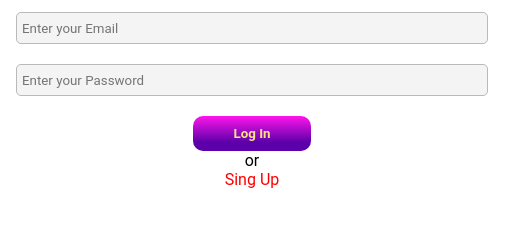
Test case: <Form/> › submit login form and login unsuccessfully
Type "test@test" into the field with placeholder "Enter your Email" at (252, 28), box [16, 12, 488, 44]
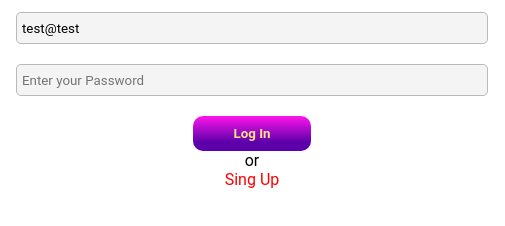
Type "abcde" into the password field with placeholder "Enter your Password" at (252, 80), box [16, 64, 488, 96]
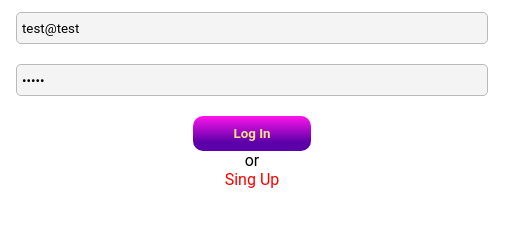
Click the button "Log In" at (252, 134), box [194, 116, 310, 151]
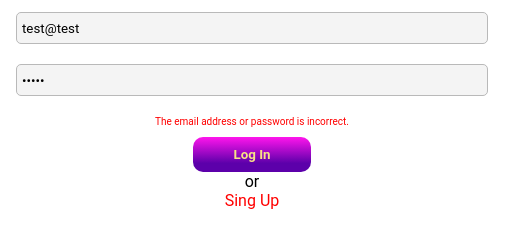
Expected: the button "Log In" is shown, [194, 137, 310, 172]
Result: the text "The email address or password is incorrect." is shown at [155, 116, 349, 127]
